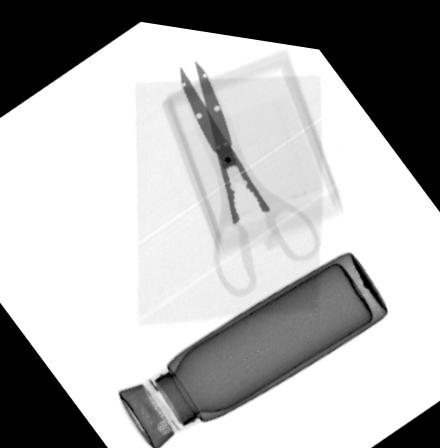Scissors: (178, 52, 322, 288)
